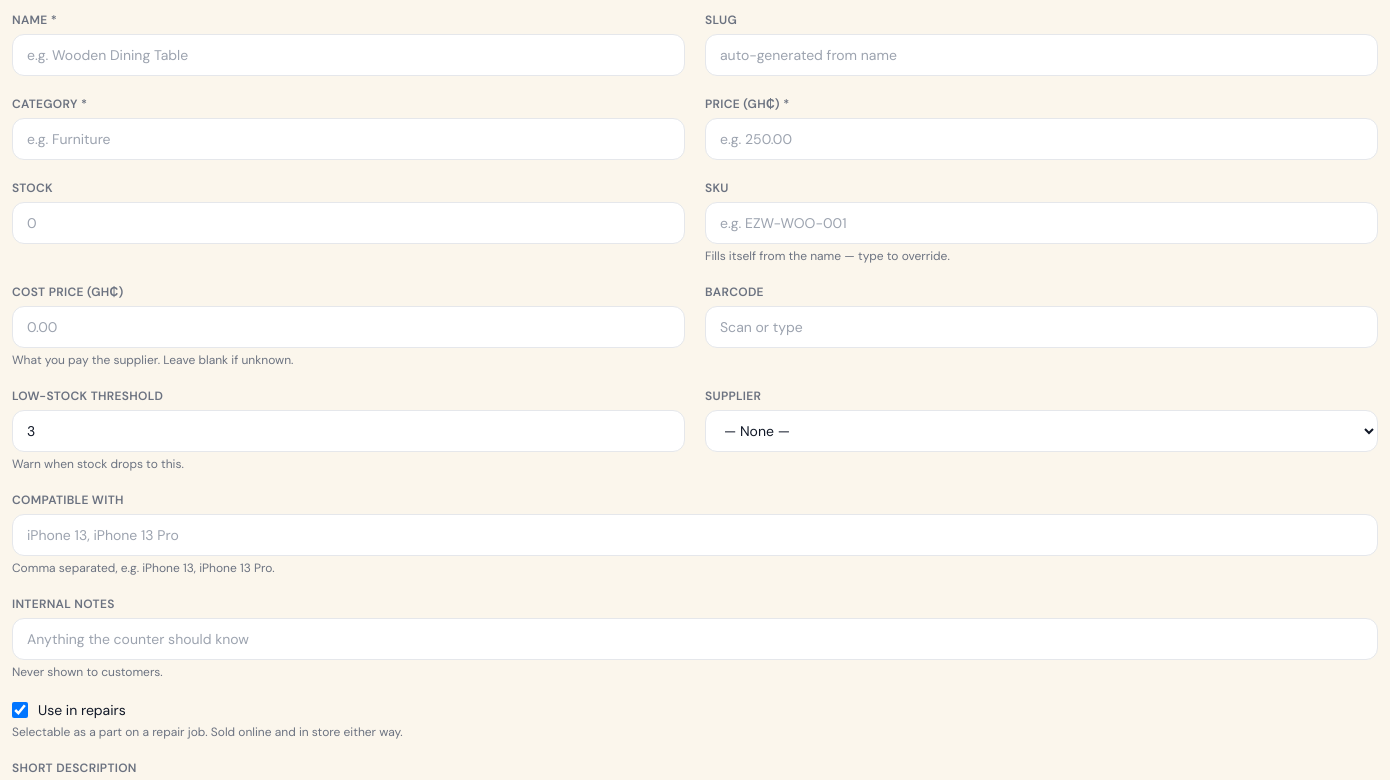
Scenario: ProductForm — automatic SKU fill › fills the SKU from the product name, sending the derived prefix
The image size is (1390, 780).
Type "Wooden Dining Table" into the field with placeholder "e.g. Wooden Dining Table" at (348, 55), box [12,34,685,76]
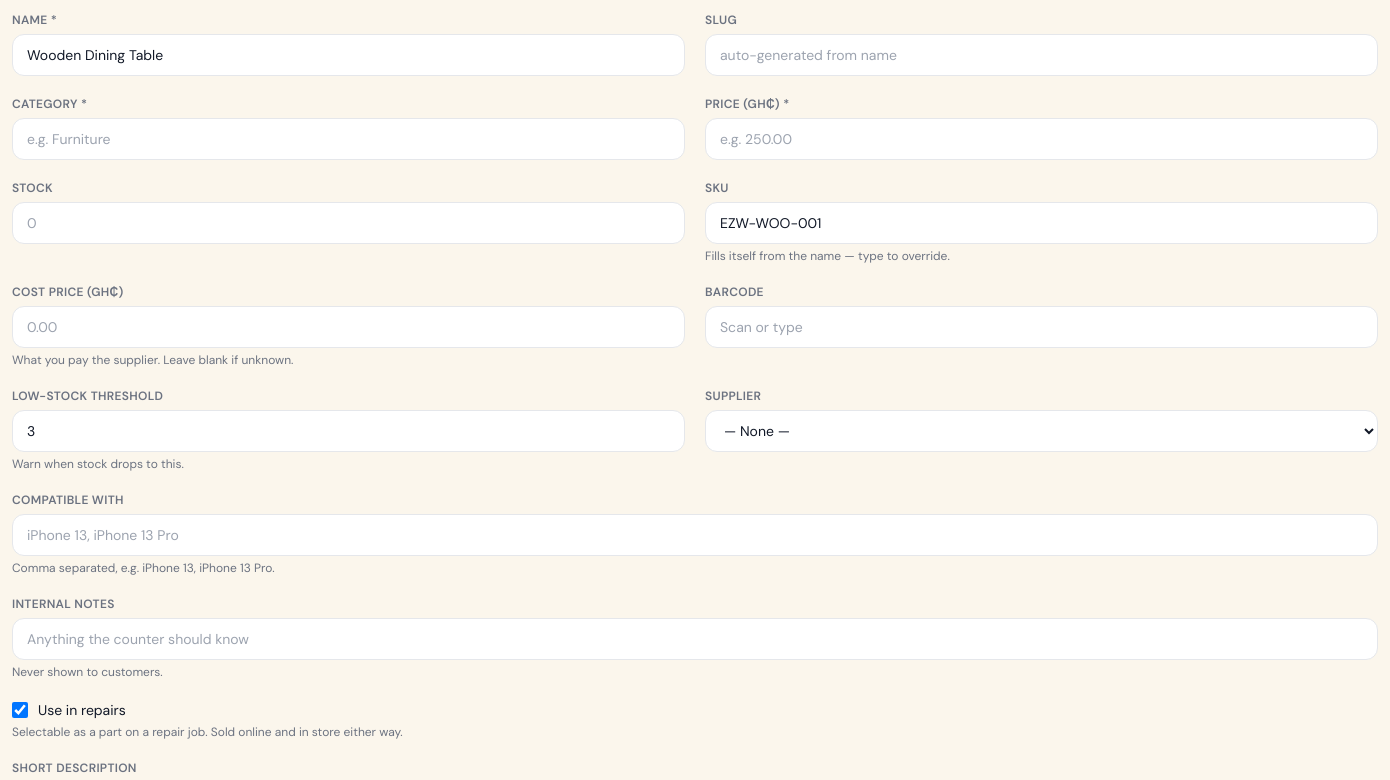
Expected: the field with placeholder "e.g. EZW-WOO-001" holds "EZW-WOO-001", [705,202,1378,244]
